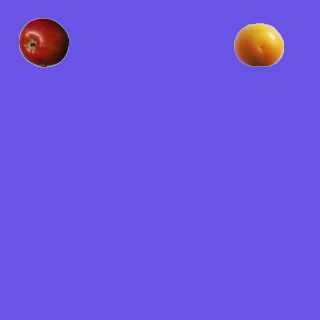Apple Braeburn: (18, 17, 68, 67)
Cherry Wax Yellow: (233, 19, 283, 69)
